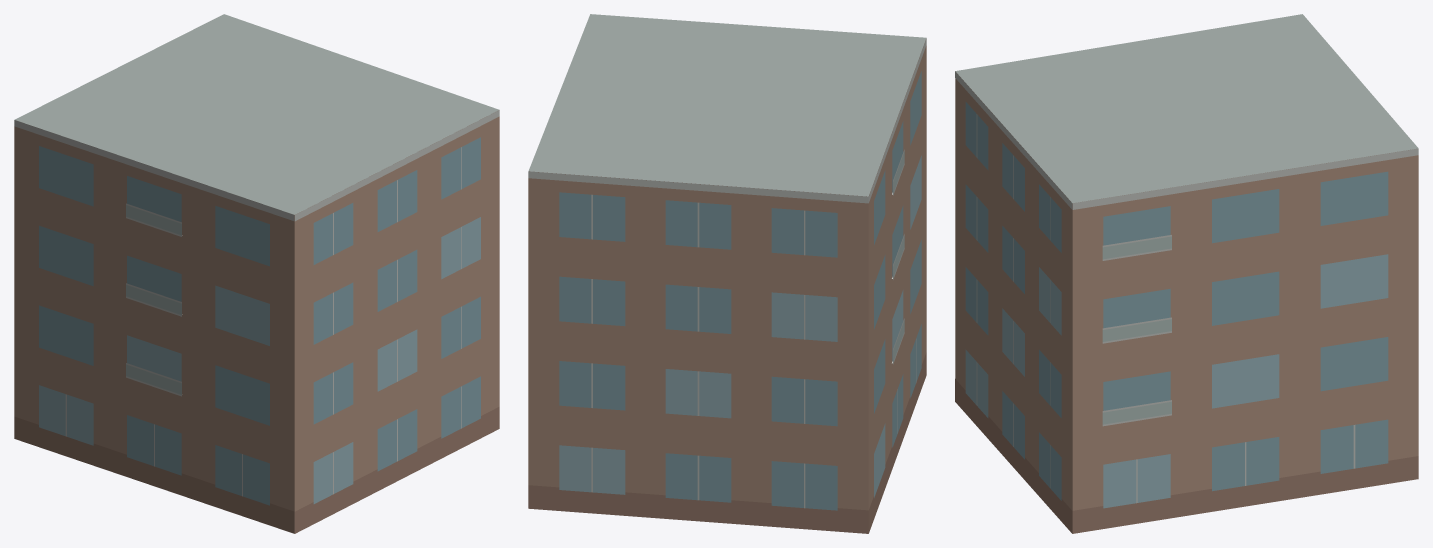
File: survey-upis-32964309.glb
The picture shows the model from 3 angles, left to right: view 1: azimuth 30°, elevation 25°; view 2: azimuth 150°, elevation 25°; view 3: azimuth 270°, elevation 25°; orthographic projection. The views are drawn at different scales.
Visible parts, largest first — view 1: survey-upis-32964309.tmp; view 2: survey-upis-32964309.tmp; view 3: survey-upis-32964309.tmp.
Part boxes in pixels (x1=…): survey-upis-32964309.tmp: x1=14, y1=14, x2=499, y2=533; survey-upis-32964309.tmp: x1=528, y1=14, x2=926, y2=533; survey-upis-32964309.tmp: x1=955, y1=14, x2=1418, y2=533.
Size of the model in its own units: 14.68 by 11.95 by 15.2.
